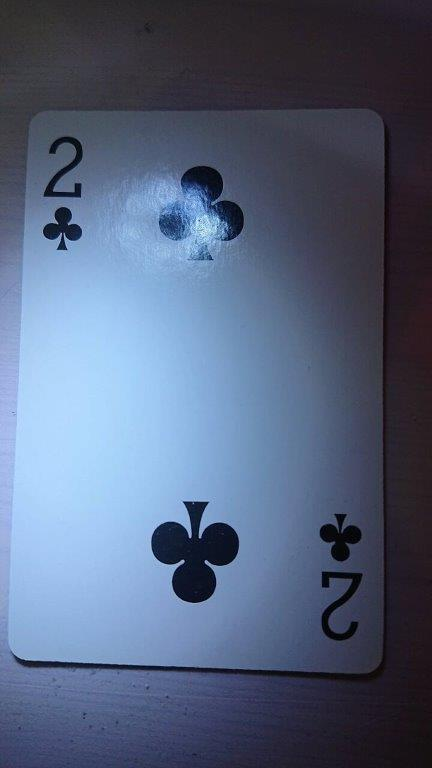2C: (5, 105, 387, 678)
